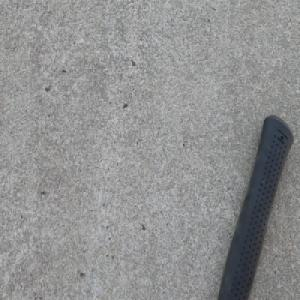Hammer: (214, 112, 294, 300)
